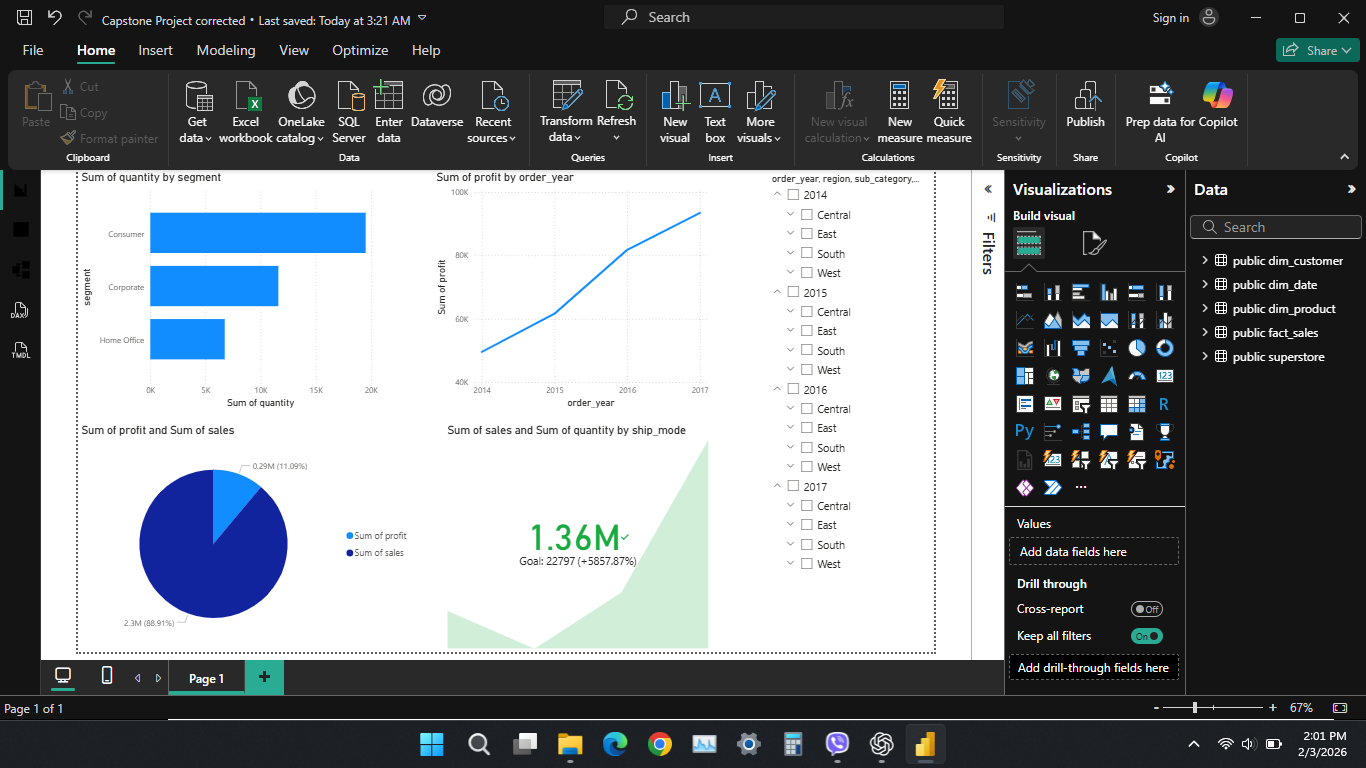

The page's visual inventory and layout, read from the dashboard file:
{"tool":"powerbi","page":{"name":"Page 1","canvas":[1280,720],"ordinal":0},"visuals":[{"type":"pieChart","fields":{"Y":["Sum(public superstore.profit)","Sum(public superstore.sales)"]},"box":[0,377.9,504.9,342.1],"z":0},{"type":"barChart","fields":{"Category":["public superstore.segment"],"Y":["Sum(public superstore.quantity)"]},"box":[0,0,452.6,360],"z":1000},{"type":"lineChart","fields":{"Y":["Sum(public superstore.profit)"],"Category":["public superstore.order_year"]},"box":[530.3,0,416.8,360],"z":2000},{"type":"kpi","fields":{"Goal":["Sum(public superstore.quantity)"],"TrendLine":["public superstore.ship_mode"],"Indicator":["Sum(public superstore.sales)"]},"box":[546.7,377.9,400.3,342.1],"z":2001},{"type":"slicer","fields":{"Values":["public superstore.order_year","public superstore.region","public superstore.sub_category","public superstore.segment","public superstore.product_name"]},"box":[1023.2,0,256.9,706.6],"z":2002}]}

Visuals, with their boxes on the page's 1280x720 design canvas (x1, y1, x2, y2). These are canvas units, not pixel positions in the 1366x768 screenshot, which may show the page scaled, cropped or inside an application window:
pieChart - Sum(public superstore.profit) x Sum(public superstore.sales): box=[0, 378, 505, 720]
barChart - public superstore.segment x Sum(public superstore.quantity): box=[0, 0, 453, 360]
lineChart - Sum(public superstore.profit) x public superstore.order_year: box=[530, 0, 947, 360]
kpi - Sum(public superstore.quantity) x public superstore.ship_mode: box=[547, 378, 947, 720]
slicer - public superstore.order_year x public superstore.region: box=[1023, 0, 1280, 707]
